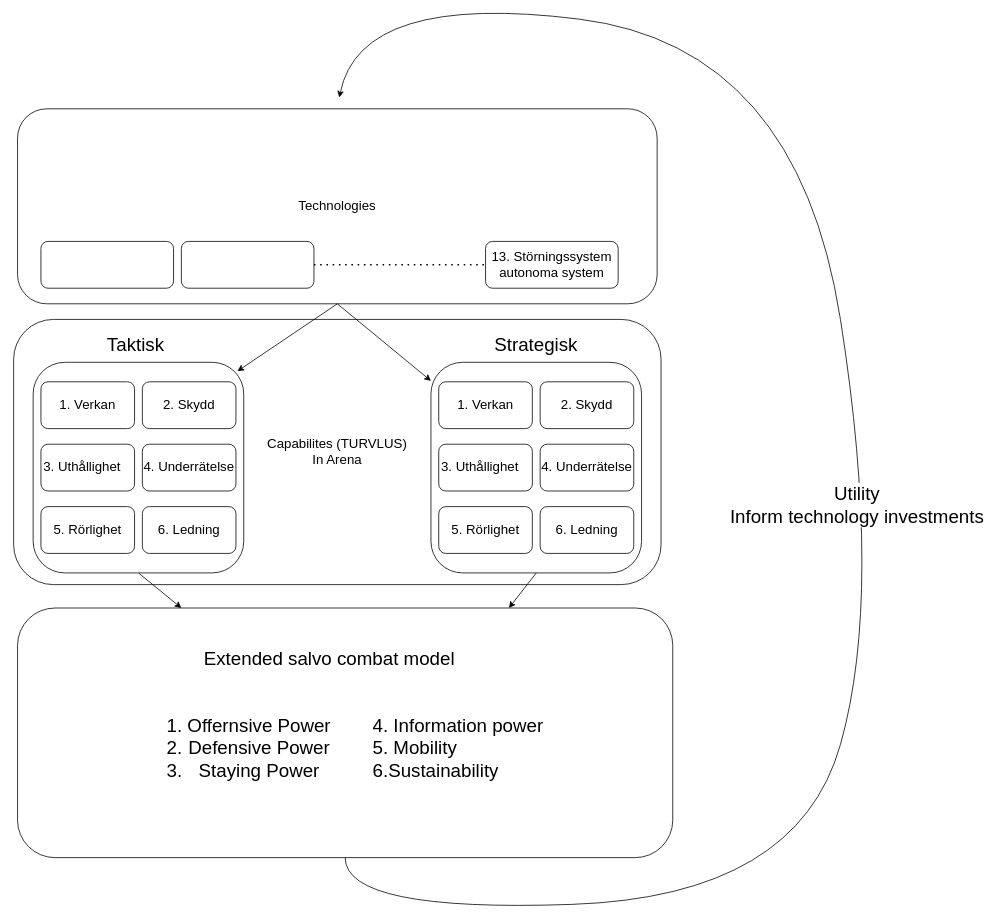
Image size: 998x920. Some labels were removed from this diagram. Each missing label, with the centre of its shape:
1. Sensorteknologi: pixel 107 264
2. Obemannade farkoster: pixel 247 264
